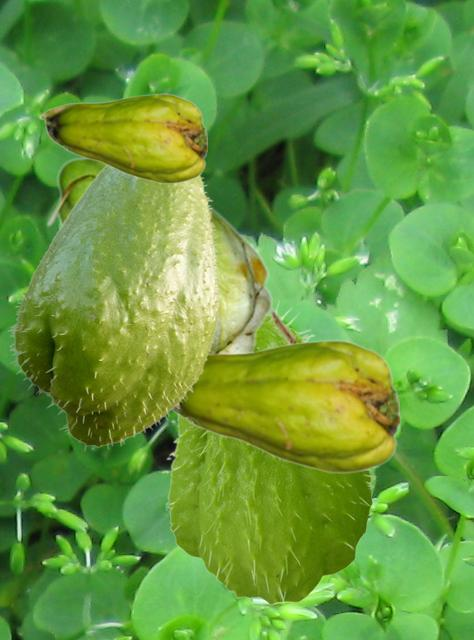sayote: (161, 299, 377, 604), (7, 165, 221, 450), (45, 155, 294, 351), (172, 339, 398, 473), (38, 93, 206, 183)
